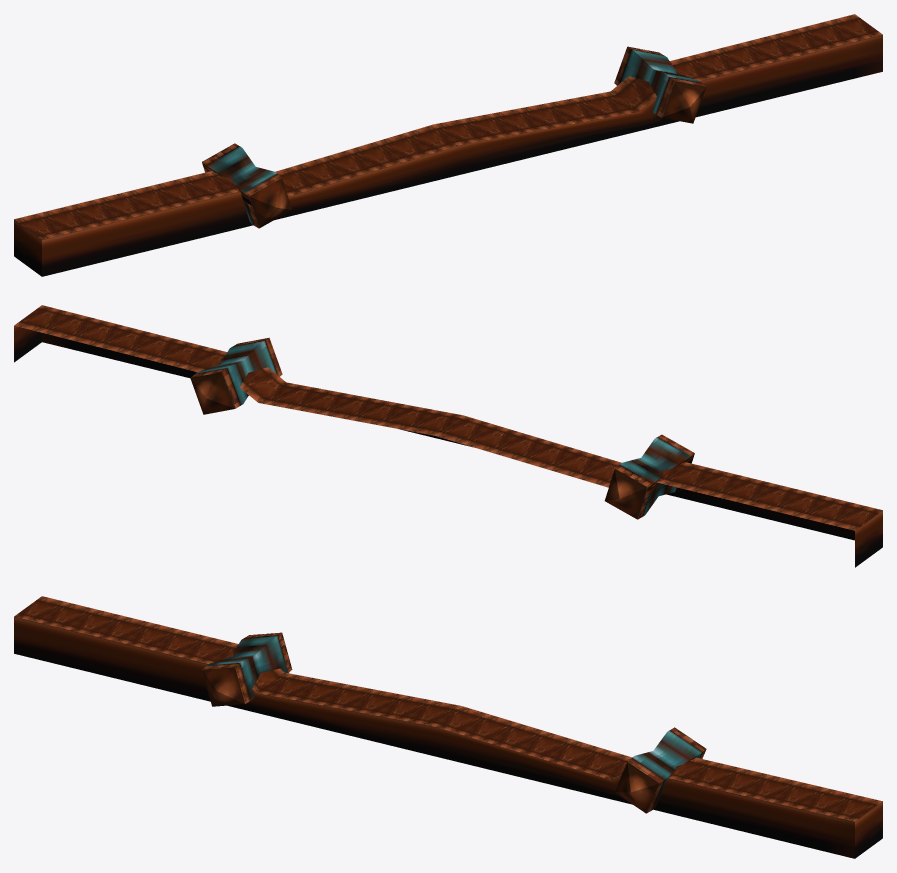
File: street_fixtool_2807.glb
3 views of the same model, one above another, from view 1: azimuth 30°, elevation 25°; view 2: azimuth 150°, elevation 25°; view 3: azimuth 330°, elevation 25° (orthographic).
Visible parts, largest first — view 1: pPlaneShape174, pPlaneShape175, pCylinderShape1, pCylinderShape2, pPlaneShape179, pPlaneShape182, pPlaneShape177; view 2: pPlaneShape175, pPlaneShape174, pCylinderShape2, pCylinderShape1, pPlaneShape180, pPlaneShape181, pPlaneShape177, pPlaneShape176; view 3: pPlaneShape174, pPlaneShape175, pCylinderShape2, pCylinderShape1, pPlaneShape182, pPlaneShape179, pPlaneShape176.
Boxes of the visible parts, bbox=[...] form: pPlaneShape174: bbox=[42, 34, 882, 276]; pPlaneShape175: bbox=[14, 14, 882, 239]; pCylinderShape1: bbox=[614, 46, 705, 117]; pCylinderShape2: bbox=[202, 143, 281, 228]; pPlaneShape179: bbox=[661, 81, 706, 123]; pPlaneShape182: bbox=[249, 178, 291, 228]; pPlaneShape177: bbox=[14, 219, 41, 276]; pPlaneShape175: bbox=[14, 305, 882, 530]; pPlaneShape174: bbox=[42, 333, 854, 540]; pCylinderShape2: bbox=[615, 434, 694, 519]; pCylinderShape1: bbox=[191, 337, 282, 408]; pPlaneShape180: bbox=[190, 372, 235, 414]; pPlaneShape181: bbox=[604, 469, 647, 519]; pPlaneShape177: bbox=[855, 510, 882, 567]; pPlaneShape176: bbox=[14, 325, 41, 362]; pPlaneShape174: bbox=[14, 616, 854, 858]; pPlaneShape175: bbox=[14, 596, 882, 821]; pCylinderShape2: bbox=[202, 632, 291, 703]; pCylinderShape1: bbox=[628, 727, 706, 813]; pPlaneShape182: bbox=[202, 667, 244, 706]; pPlaneShape179: bbox=[614, 762, 659, 813]; pPlaneShape176: bbox=[855, 801, 882, 858].
Size of the model in its own units: 2 by 0.1171 by 0.2463.
11 materials, 11 textured.
